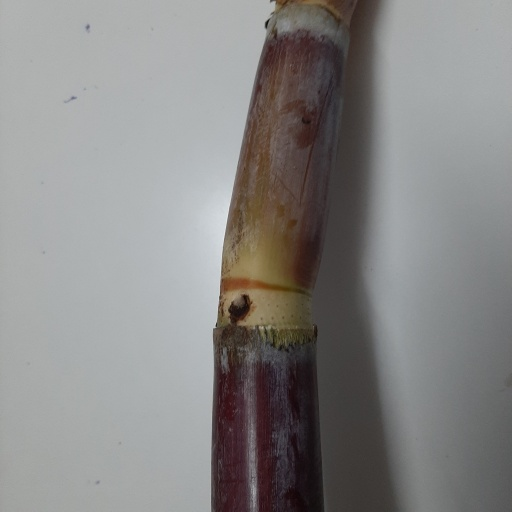Damage_Bud: (228, 294, 252, 325)
